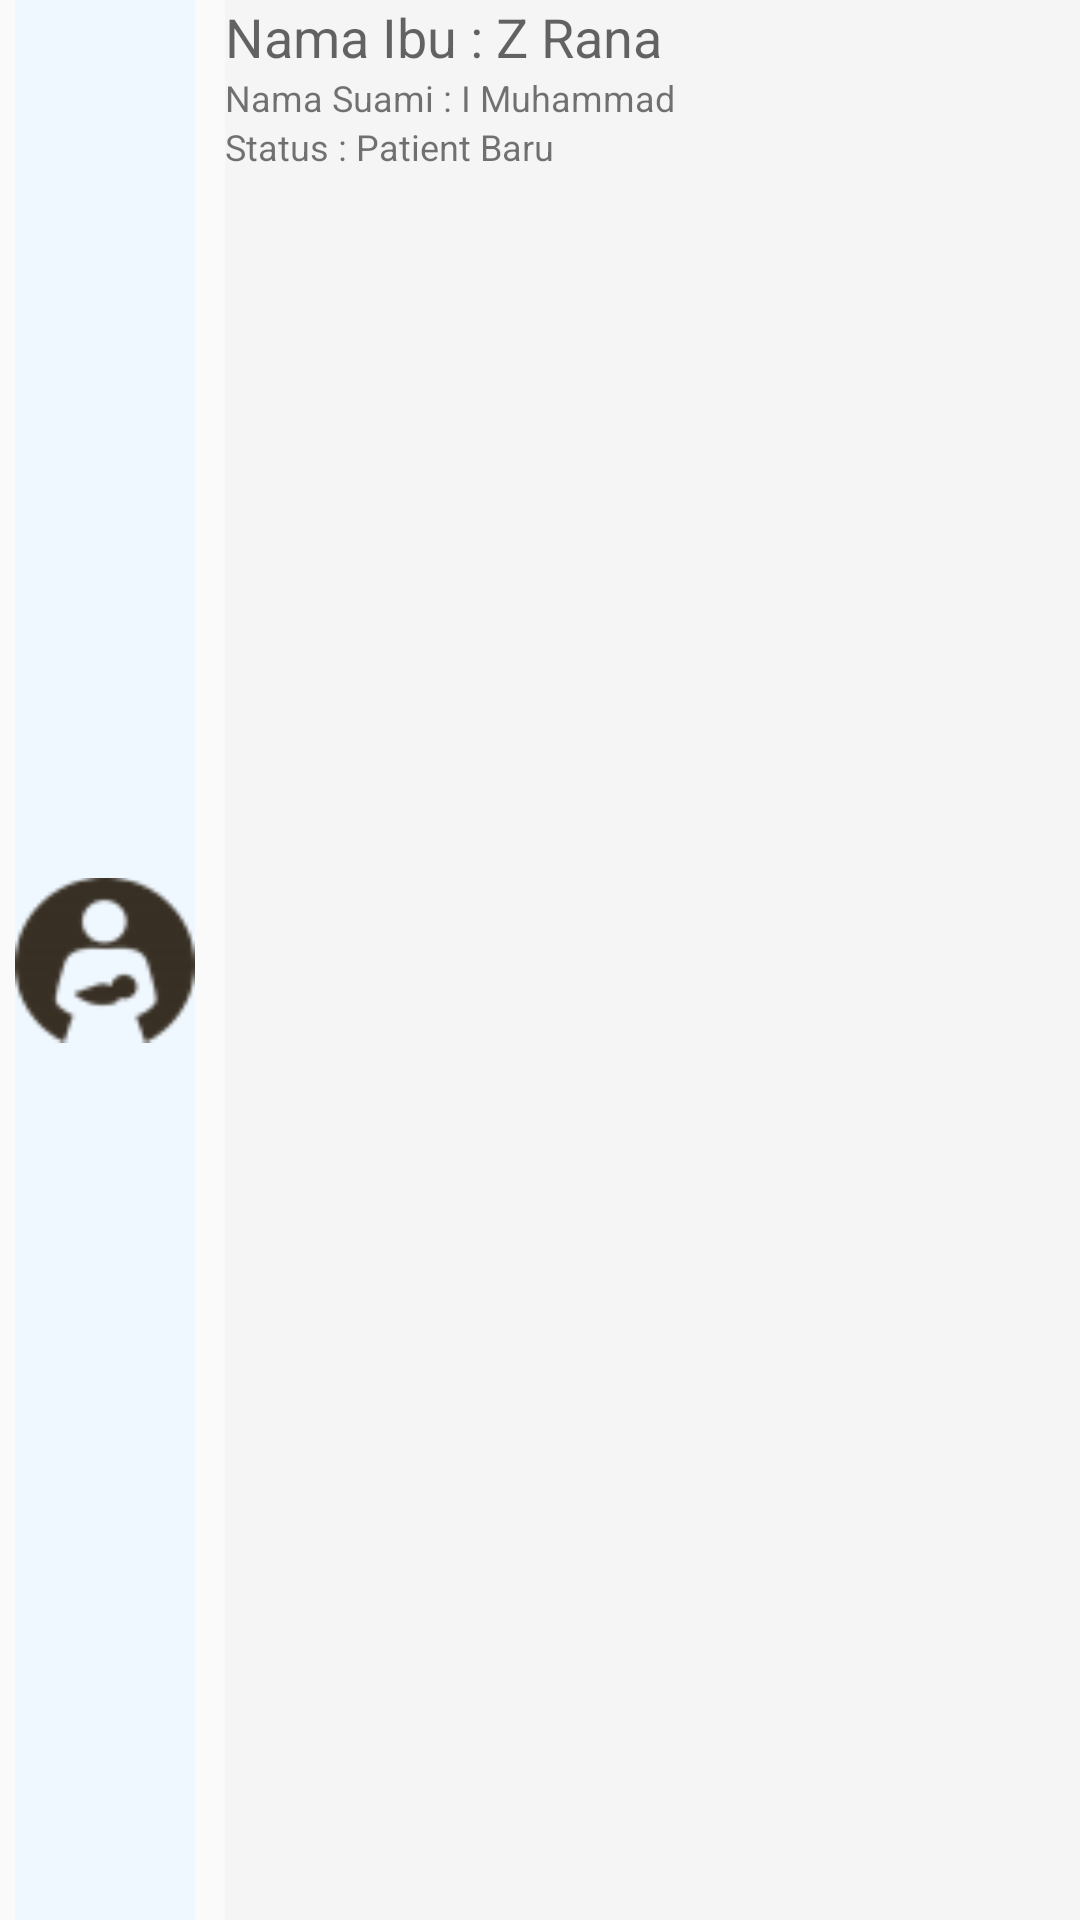

Icons on this 1080 × 1920 Android screen, each with the point to tap as point (x, y):
mother: point (105, 960)
